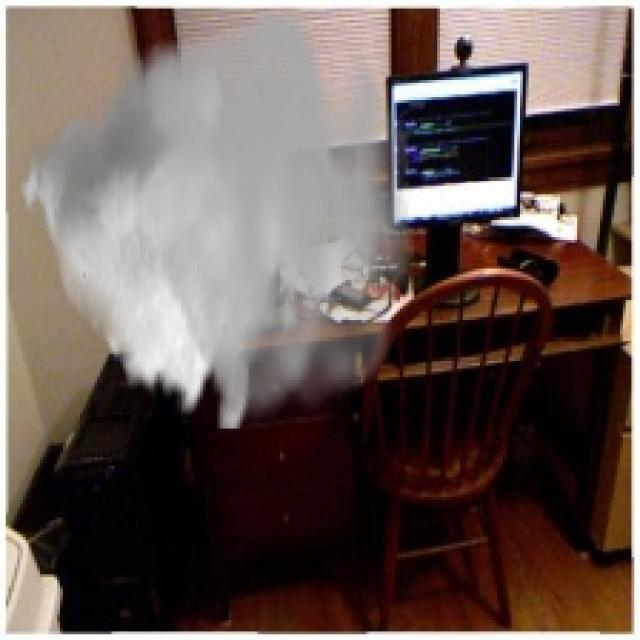Smoke: (17, 2, 414, 428)
